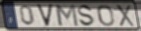0: (19, 5, 37, 27)
M: (53, 4, 80, 28)
O: (96, 4, 116, 27)
S: (77, 4, 96, 28)
V: (35, 3, 55, 28)
X: (115, 4, 136, 28)
